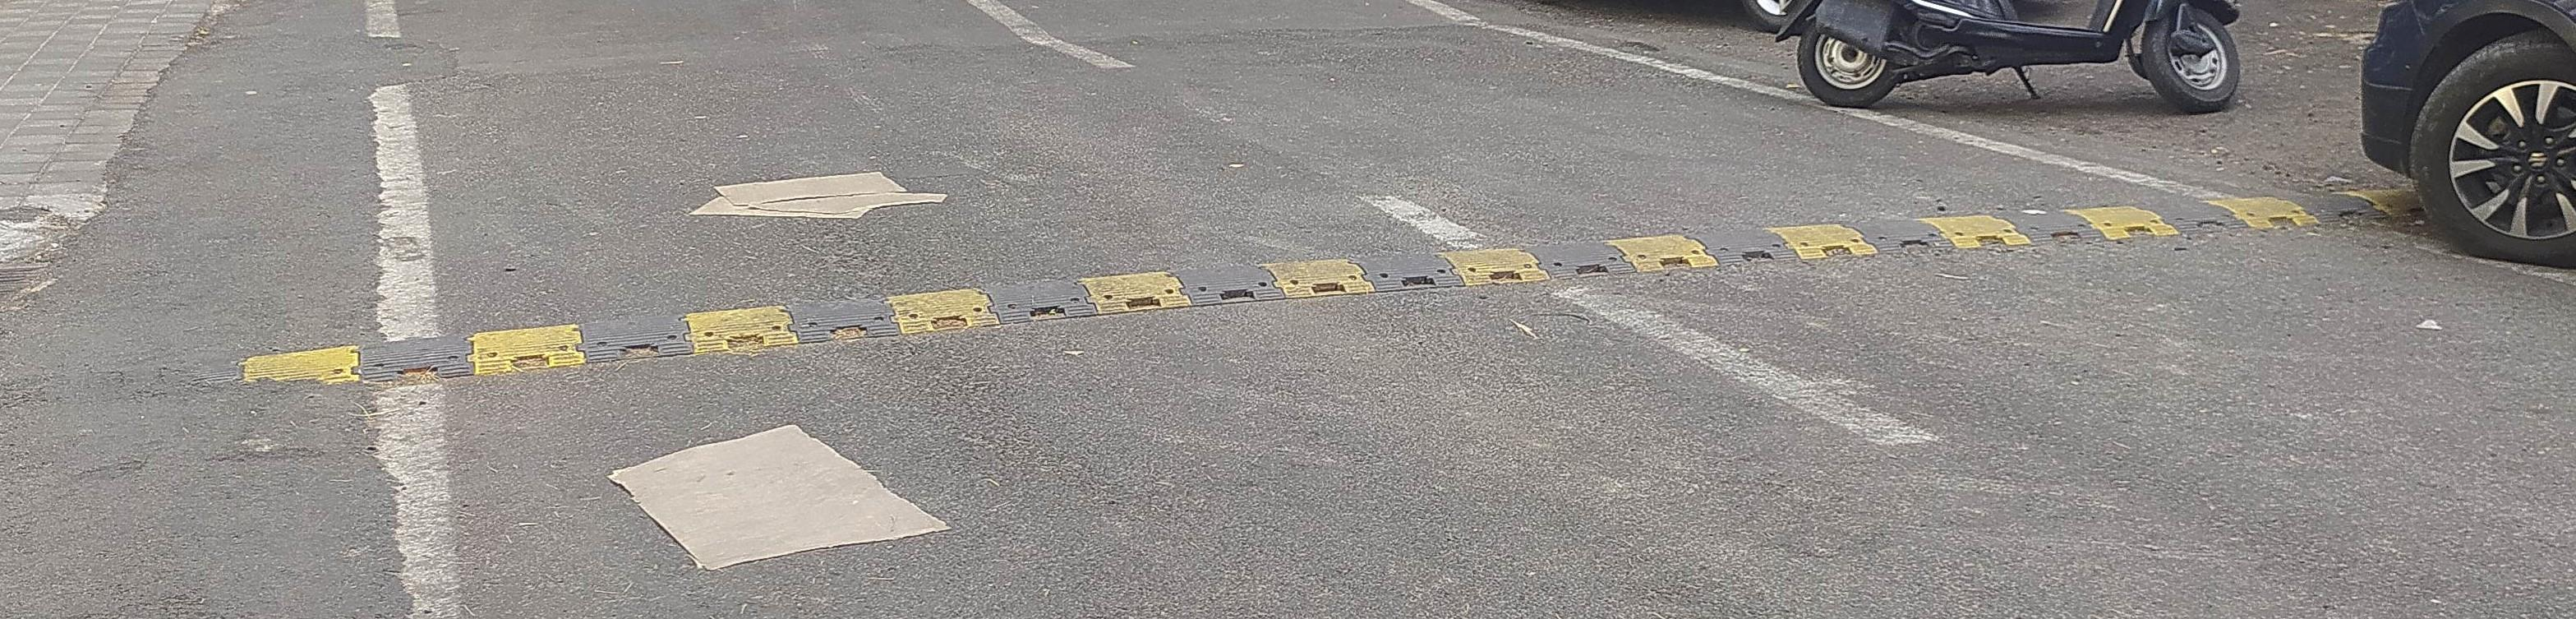speed-bump: (10, 173, 2397, 421)
